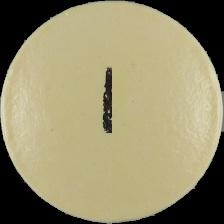57896-981: (0, 0, 224, 224)
